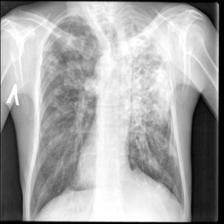tuberculosis: (23, 12, 189, 222)
